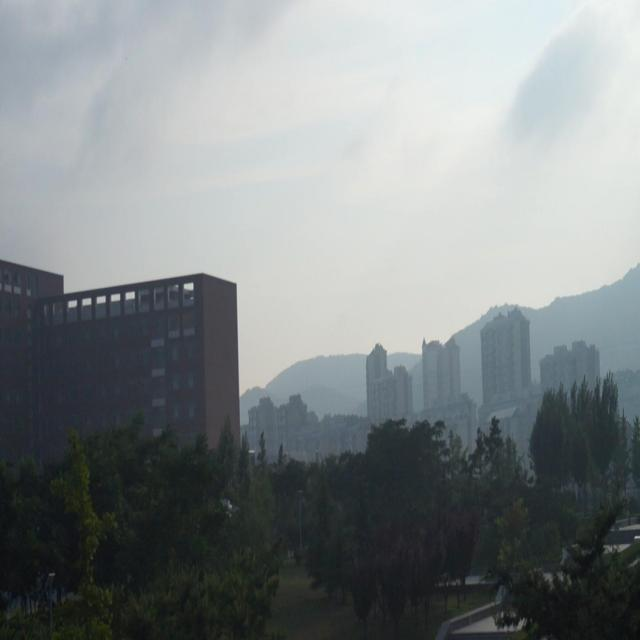UAV: (220, 499, 240, 517)
